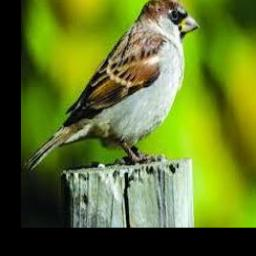Sparrow: (24, 0, 199, 171)
